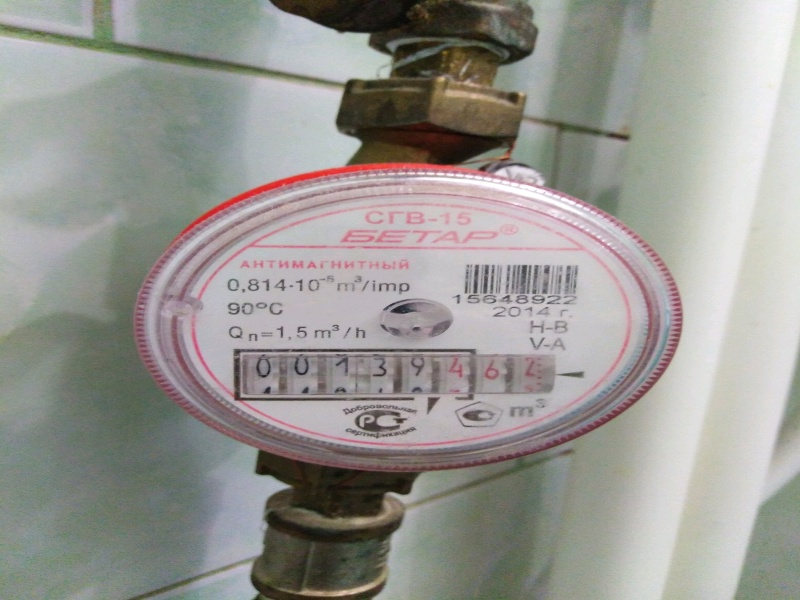meter: (237, 346, 548, 402)
